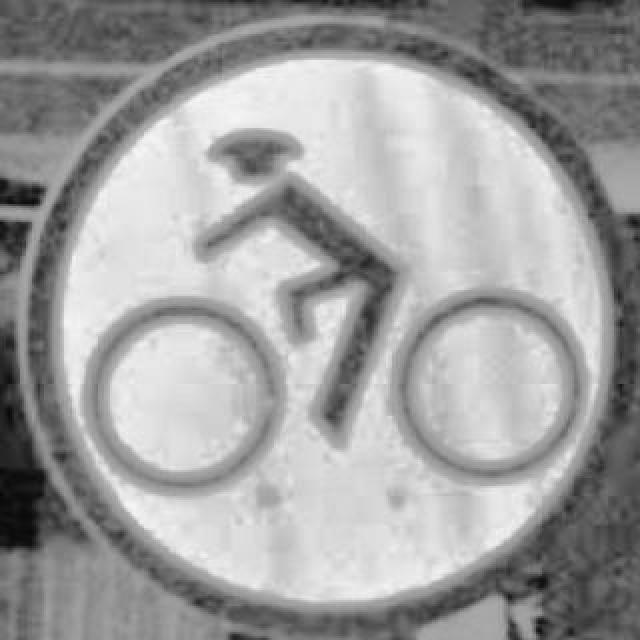bike lane: (18, 14, 624, 638)
